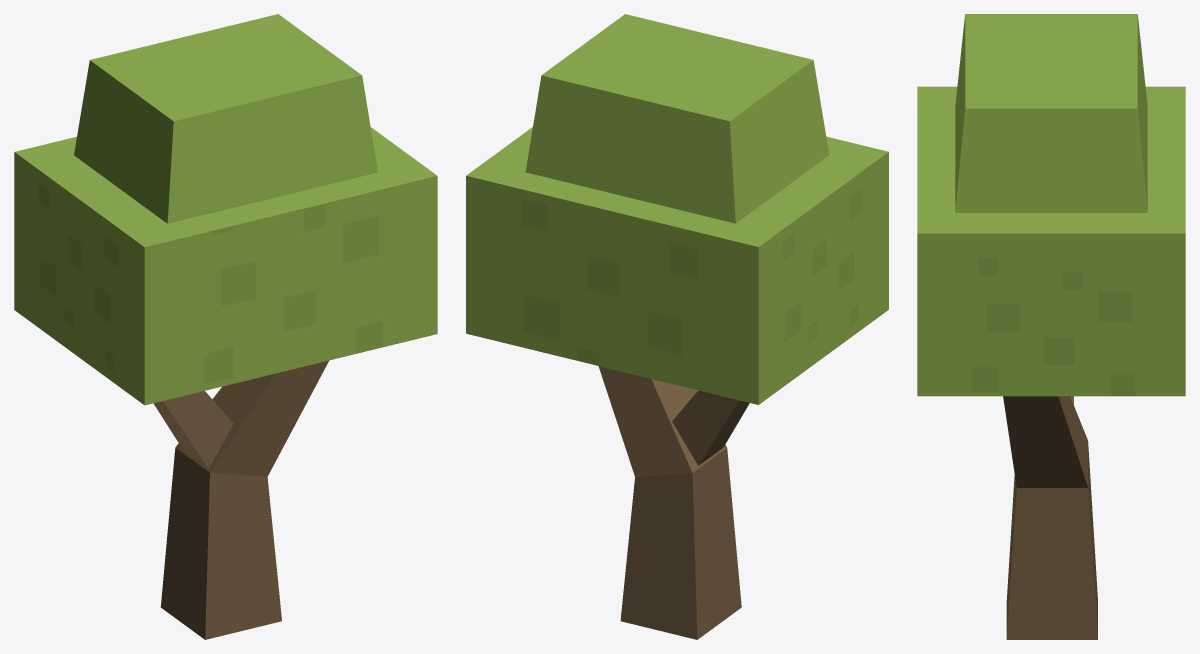
Rendered from Tree_01.fbx.
The picture shows the model from 3 angles, left to right: view 1: azimuth 30°, elevation 25°; view 2: azimuth 150°, elevation 25°; view 3: azimuth 270°, elevation 25°; orthographic projection. The views are drawn at different scales.
Visible parts, largest first — view 1: Tree_01; view 2: Tree_01; view 3: Tree_01.
Part boxes in pixels (x1=…): Tree_01: x1=14, y1=14, x2=437, y2=639; Tree_01: x1=466, y1=14, x2=888, y2=639; Tree_01: x1=917, y1=14, x2=1185, y2=639.
Bounding box in the file's own units: 2.27 × 4.04 × 1.75.
